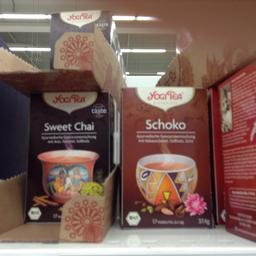tea: (119, 86, 215, 228), (25, 90, 112, 222)
